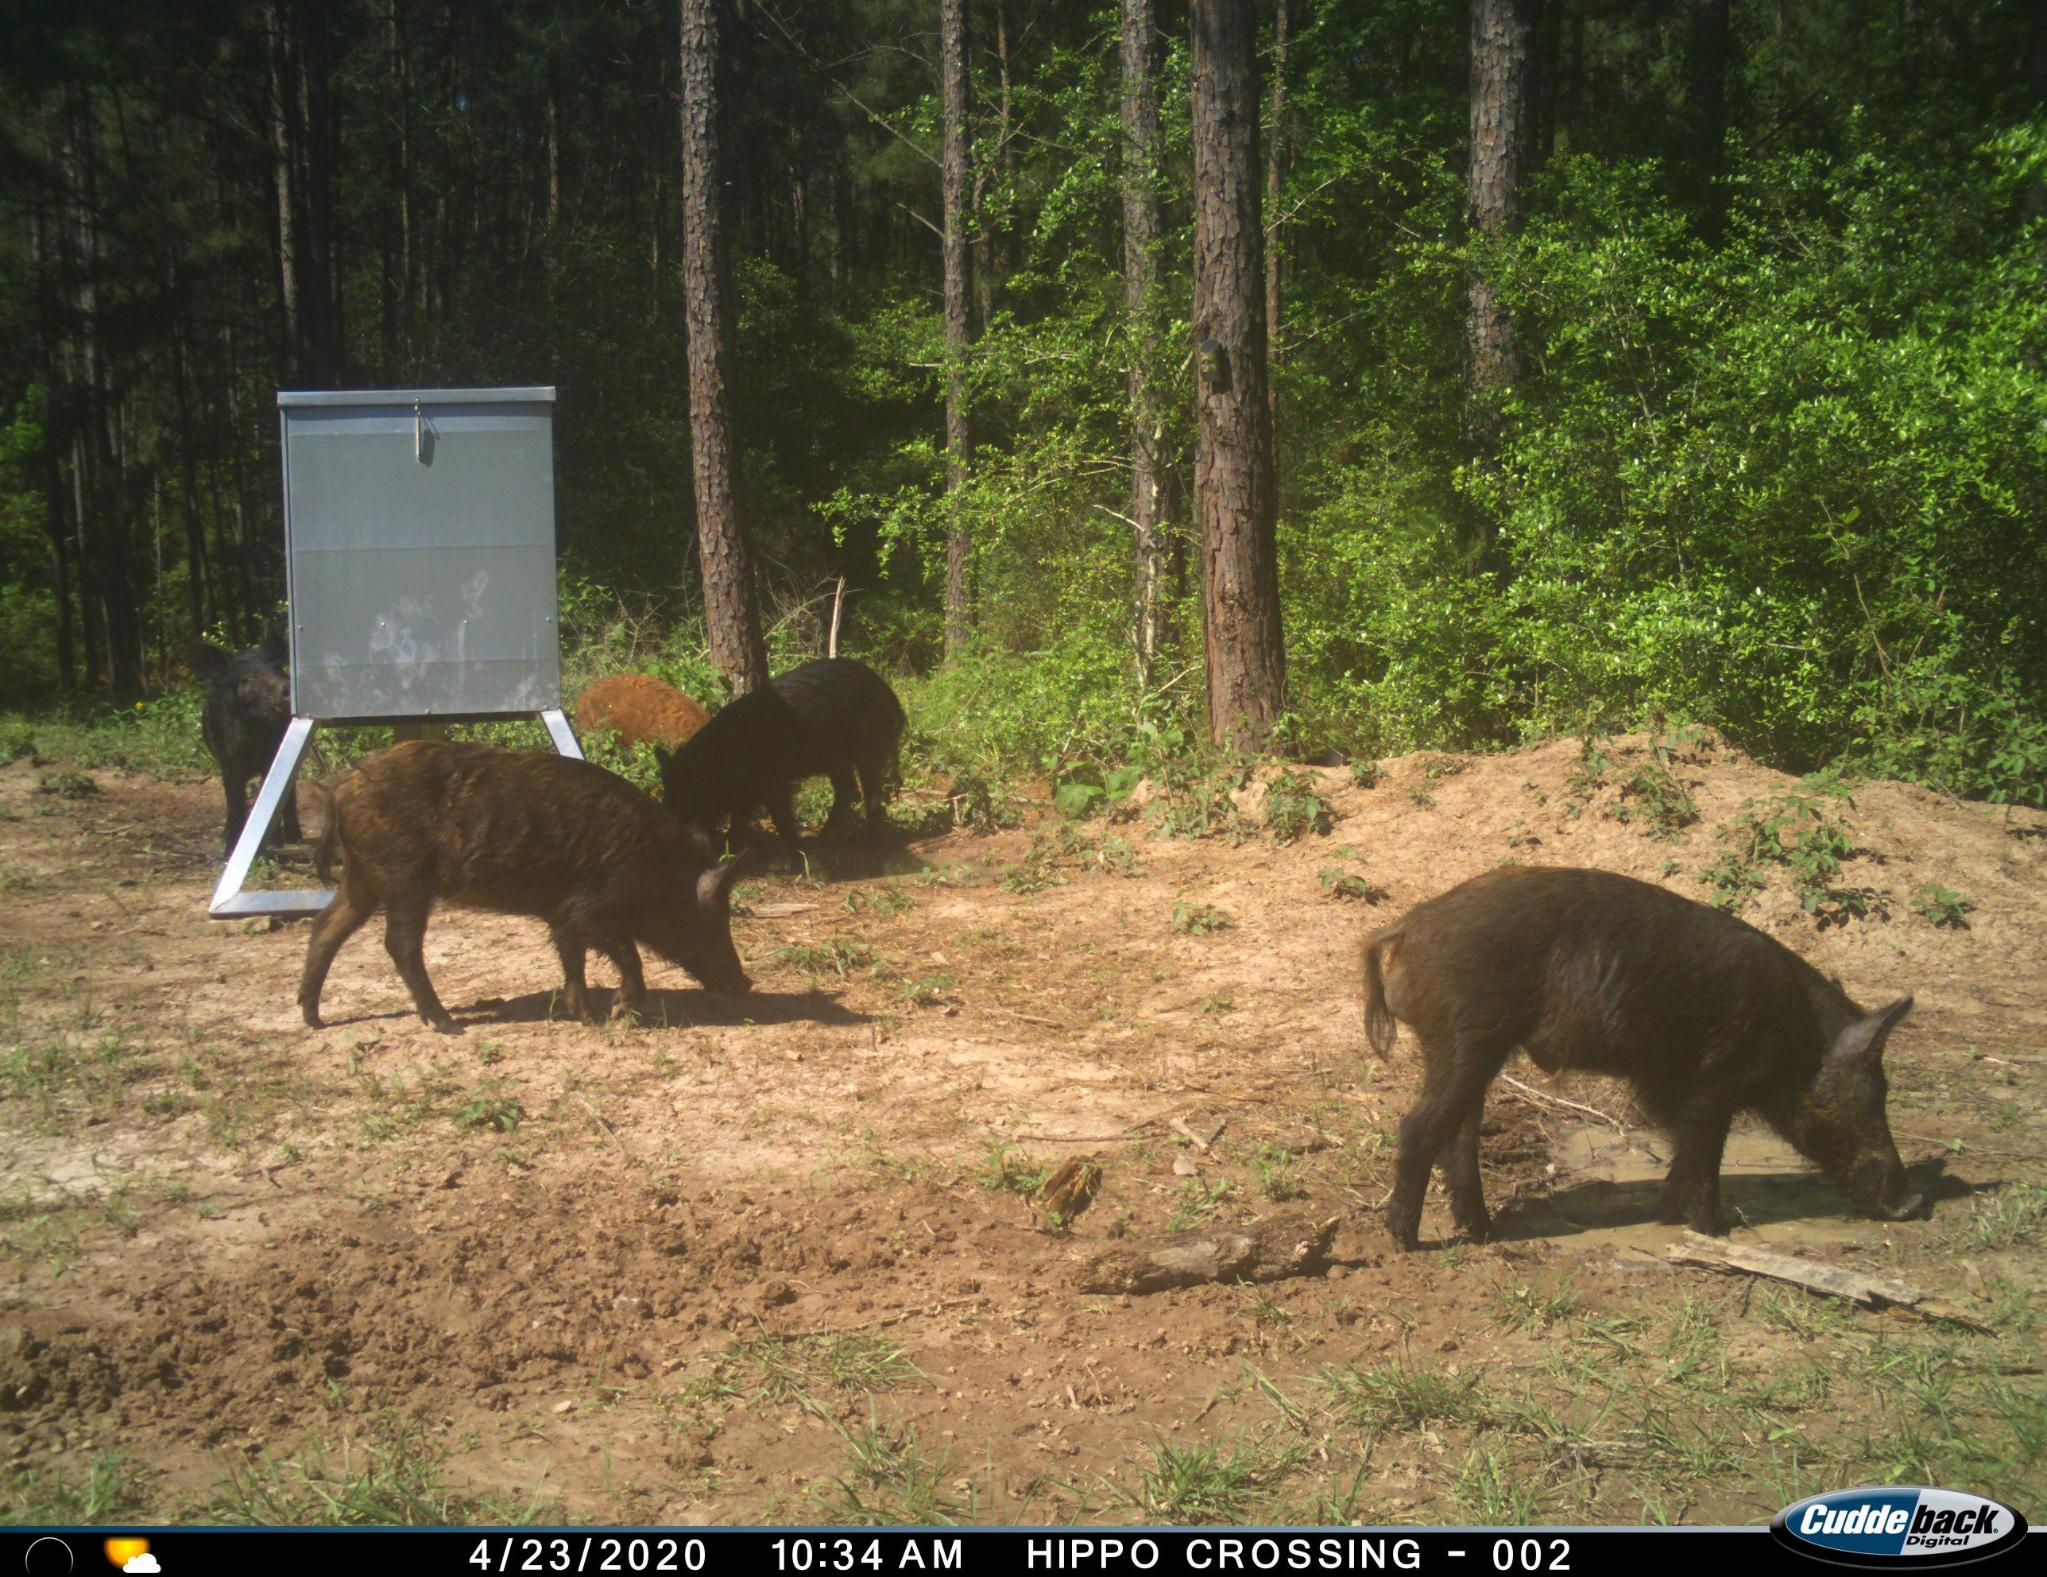Hog: (1335, 860, 1928, 1269), (285, 732, 763, 1055), (661, 658, 914, 840), (177, 608, 291, 858), (573, 674, 724, 750)
